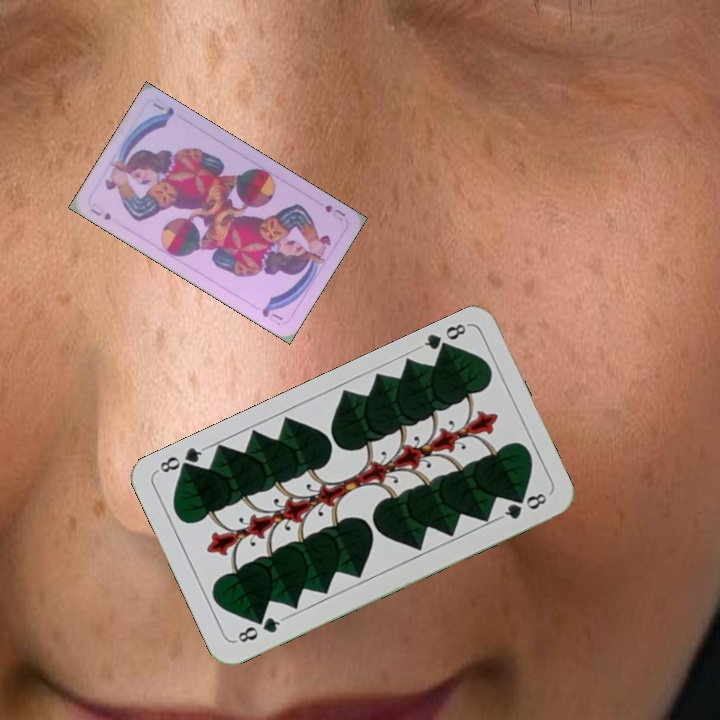G8: (415, 319, 469, 358), (231, 613, 287, 646)
SU: (86, 204, 114, 223), (321, 201, 348, 219)
